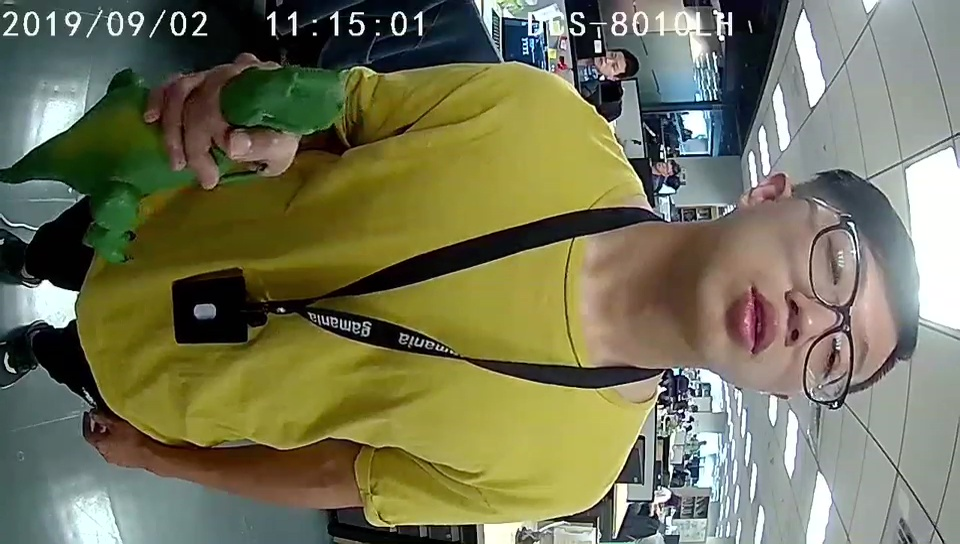rex: (79, 66, 343, 261)
